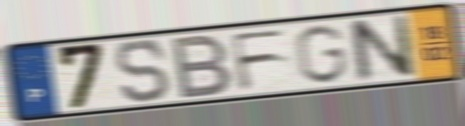7: (54, 41, 108, 113)
B: (170, 32, 236, 102)
F: (227, 26, 291, 93)
G: (292, 23, 350, 86)
N: (344, 12, 418, 85)
S: (112, 37, 174, 106)
